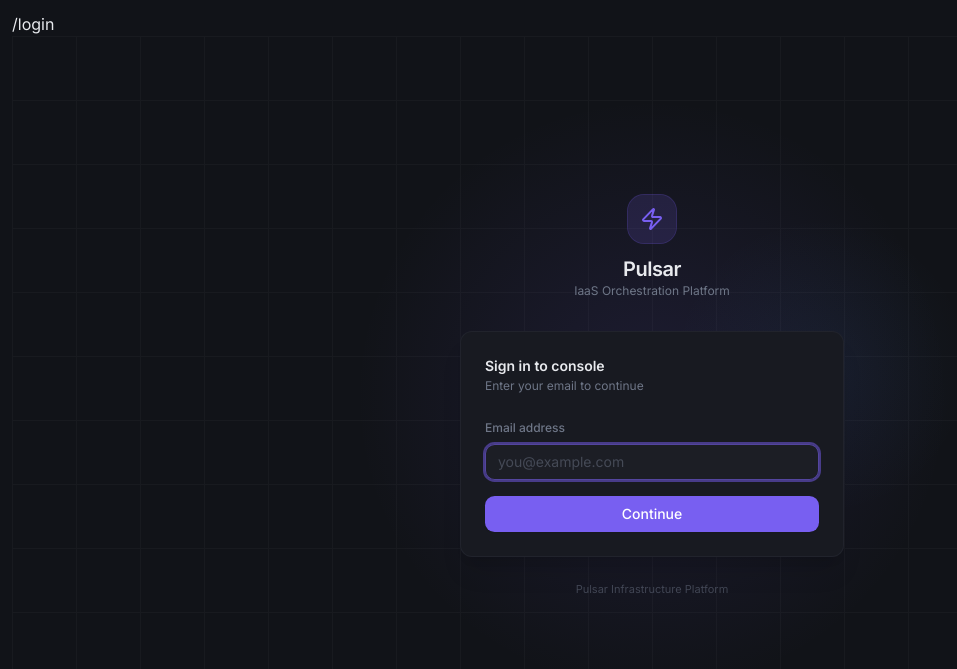
it: LoginPage › looks up SSO providers for the email and links to their authorize endpoint
Type "ada@acme.test" into the field labelled "Email address".
click(652, 462); type("ada@acme.test")  # box [485,444,819,480]
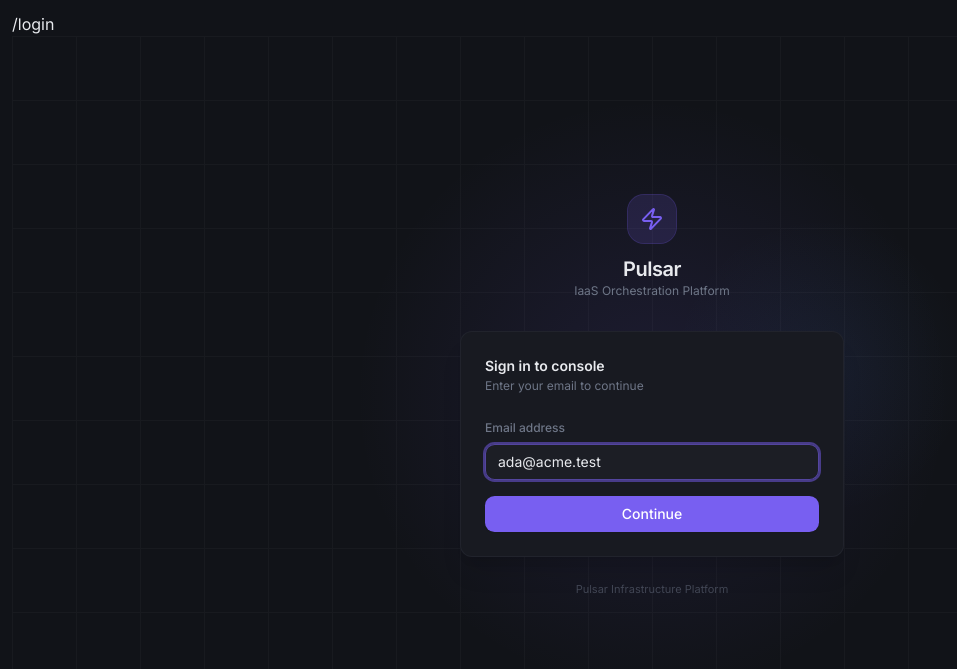
Click the button "Continue".
click(652, 514)  # box [485,496,819,532]
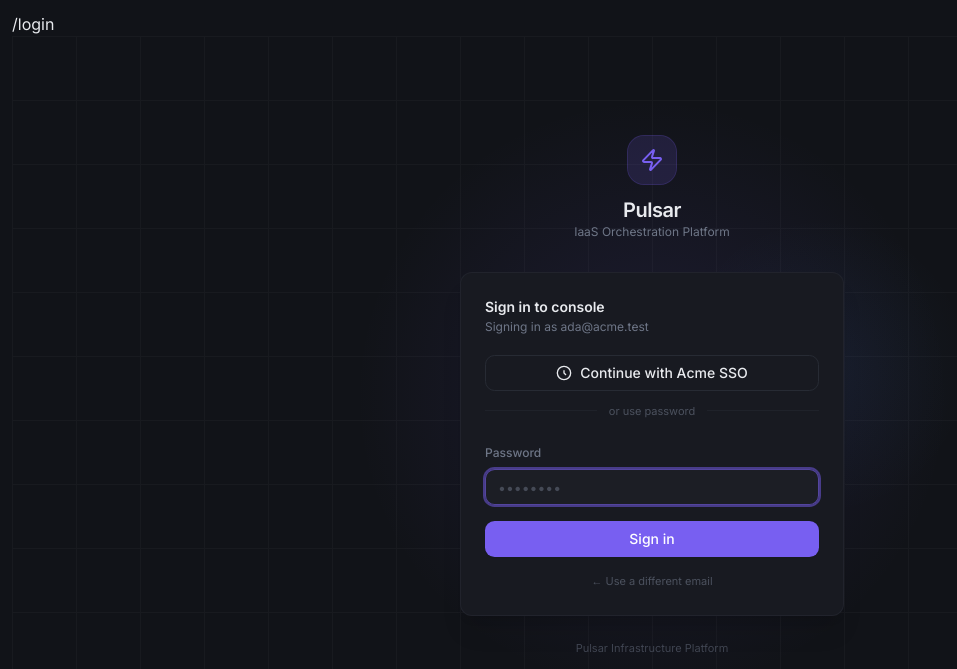
Expected: the password field labelled "Password" is shown, [485,469,819,505]
Expected: the text "Signing in as ada@acme.test" is shown, [485,318,649,334]
